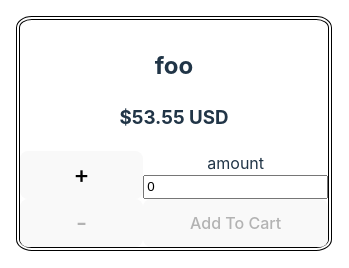
Test case: ShopItem › item count input › Decrement button › subtracts 1 after being clicked
Step 1. Click the button named "add button" → point(81, 175), box [20,151,143,199]
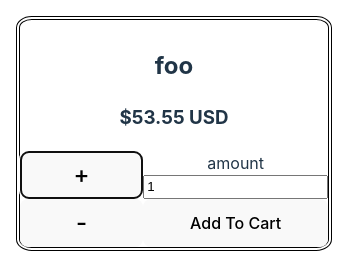
Step 2. Click the button named "add button" → point(81, 175), box [20,151,143,199]
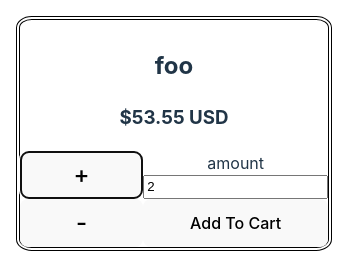
Step 3. Click the button named "add button" → point(81, 175), box [20,151,143,199]
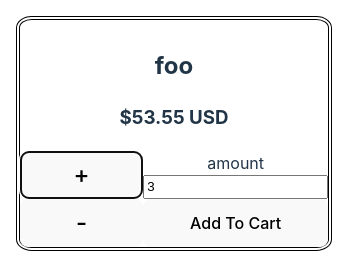
Step 4. Click the button named "subtract button" → point(81, 223), box [20,199,143,247]
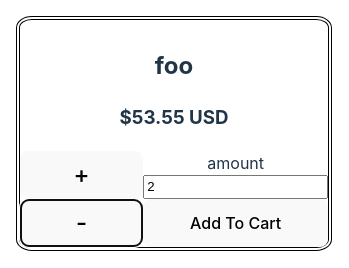
Now the number field labelled "amount" holds "2", box [143,175,328,199]
